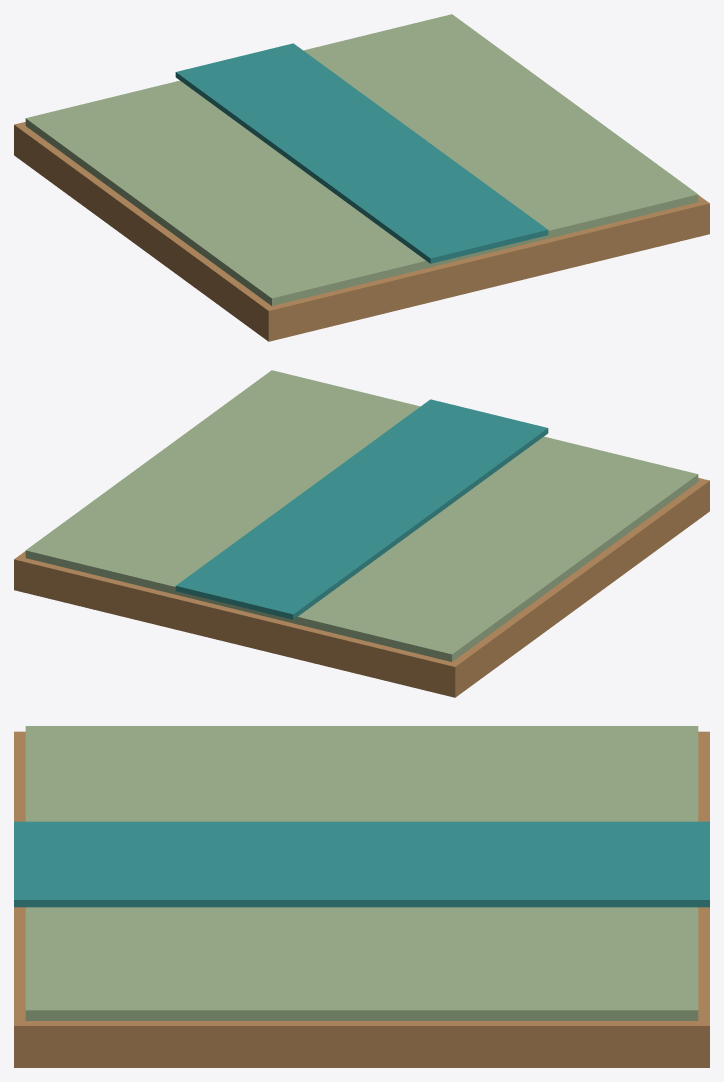
Rendered from tabletop-game-components-canal-straight-35c2dacf__20865.glb.
The picture shows the model from 3 angles, top to bottom: view 1: azimuth 30°, elevation 25°; view 2: azimuth 150°, elevation 25°; view 3: azimuth 270°, elevation 25°; orthographic projection. The views are drawn at different scales.
Parts seen in each view (by area): view 1: canal-straight; view 2: canal-straight; view 3: canal-straight.
Part boxes in pixels (x1,y1,x2,y2): canal-straight: (14,14,709,341); canal-straight: (14,370,709,697); canal-straight: (14,726,709,1067).
Size of the model in its own units: 0.06 by 0.0057 by 0.06.
